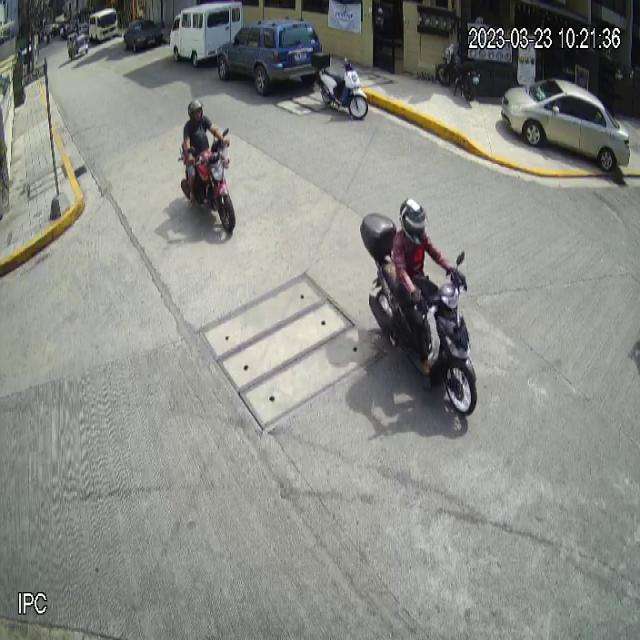Car: (500, 80, 630, 172), (217, 18, 323, 96)
Motorcycle: (360, 213, 478, 417), (178, 124, 238, 232), (310, 50, 369, 119)
Van: (170, 3, 242, 68)
